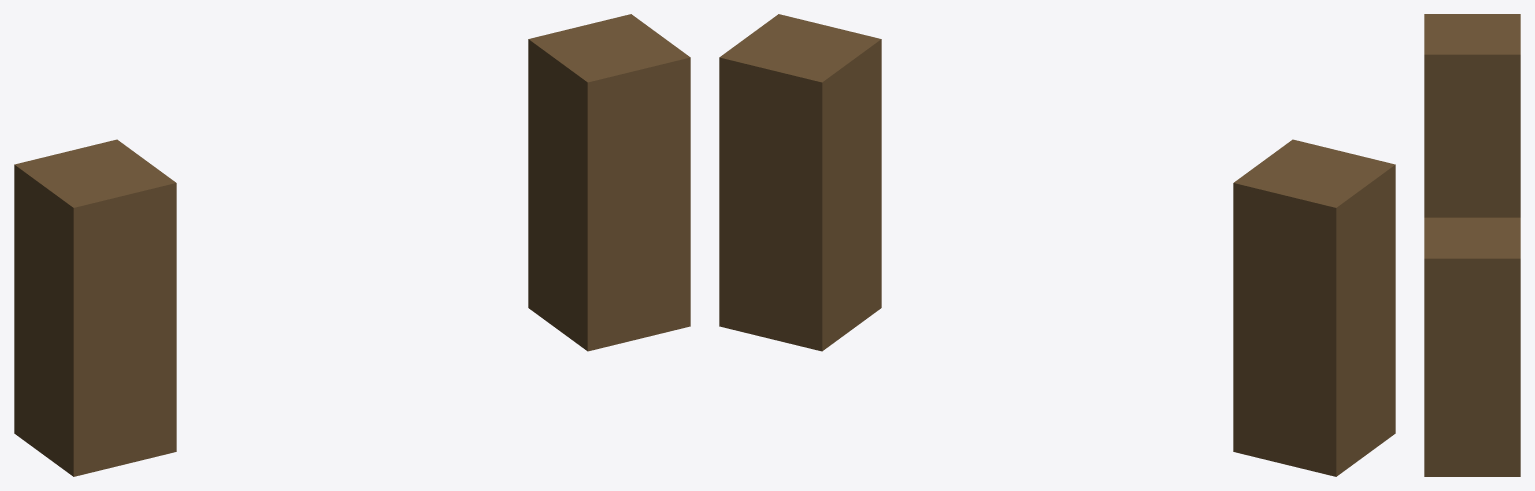
Rendered from gateWall.FBX.
3 views of the same model, side by side, from view 1: azimuth 30°, elevation 25°; view 2: azimuth 150°, elevation 25°; view 3: azimuth 270°, elevation 25° (orthographic). The views are drawn at different scales.
Visible parts, largest first — view 1: Gate Wall; view 2: Gate Wall; view 3: Gate Wall.
Boxes of the visible parts, x1=… form: Gate Wall: x1=14, y1=14, x2=690, y2=476; Gate Wall: x1=719, y1=14, x2=1395, y2=476; Gate Wall: x1=1424, y1=14, x2=1520, y2=476.
Size of the model in its own units: 12 by 5 by 2.
